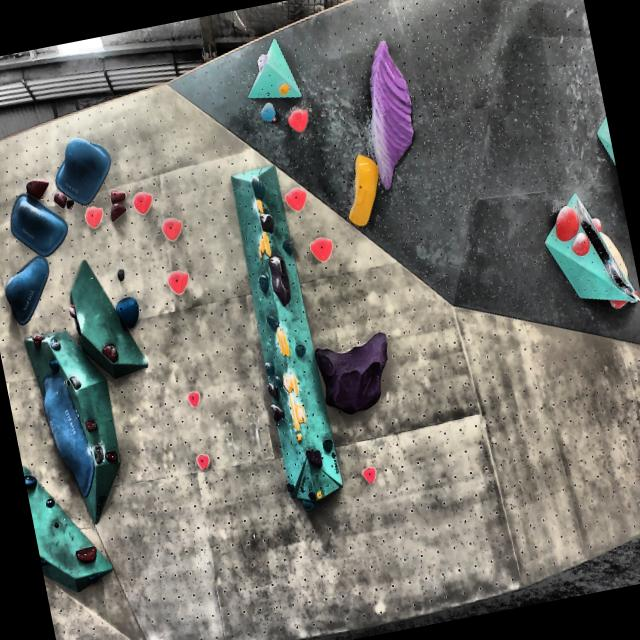Hold: (354, 36, 429, 202), (36, 368, 100, 504), (310, 328, 402, 419), (50, 132, 117, 210), (5, 189, 72, 260), (336, 146, 388, 232), (0, 254, 60, 326), (266, 253, 295, 310), (548, 204, 582, 244), (112, 292, 146, 331), (284, 104, 316, 138), (288, 394, 310, 442), (282, 184, 312, 214), (160, 217, 188, 245), (74, 542, 102, 570), (23, 173, 52, 200), (602, 256, 625, 288), (166, 268, 192, 296), (568, 231, 594, 258), (130, 190, 156, 217), (309, 237, 335, 263), (260, 98, 283, 126), (281, 370, 303, 399), (272, 327, 291, 359), (256, 100, 280, 125), (250, 172, 270, 202), (83, 205, 107, 229), (100, 341, 122, 366), (268, 400, 288, 427), (106, 200, 130, 222), (252, 50, 272, 76), (606, 294, 634, 312), (256, 232, 274, 259), (258, 211, 278, 235), (305, 446, 324, 471), (104, 447, 125, 468), (44, 357, 64, 378), (84, 416, 105, 435), (194, 452, 213, 472), (255, 274, 272, 296), (301, 498, 321, 516), (362, 465, 380, 485), (24, 471, 40, 492), (109, 187, 128, 204), (592, 212, 606, 234), (92, 444, 106, 466), (51, 191, 69, 208), (66, 301, 81, 321), (266, 381, 280, 402), (276, 81, 292, 99), (322, 435, 338, 453), (186, 390, 202, 408), (86, 570, 106, 584), (264, 312, 280, 328), (44, 495, 60, 511), (271, 372, 284, 391), (294, 342, 309, 358), (30, 332, 45, 348), (253, 197, 267, 213), (48, 334, 62, 350), (307, 487, 320, 502), (264, 360, 276, 376), (40, 552, 52, 568), (283, 481, 296, 494)
